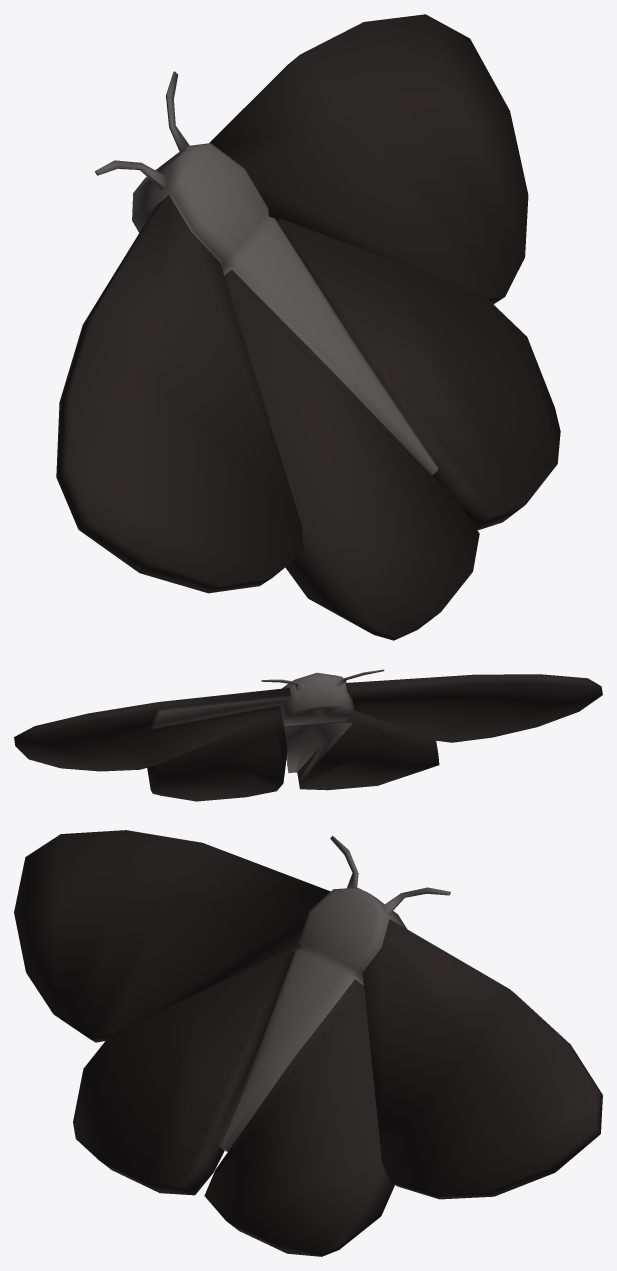
The model's file is butterfly_black.fbx.
3 renders of one model, top to bottom at view 1: azimuth 30°, elevation 25°; view 2: azimuth 150°, elevation 25°; view 3: azimuth 270°, elevation 25°, orthographic. The views are drawn at different scales.
Parts seen in each view (by area): view 1: moth; view 2: moth; view 3: moth.
Part boxes in pixels (box(x1,y1,x2,y2)): moth: box(56, 14, 560, 640); moth: box(14, 669, 602, 801); moth: box(14, 830, 602, 1256).
Bounding box in the file's own units: 19.36 × 9.04 × 17.47.
